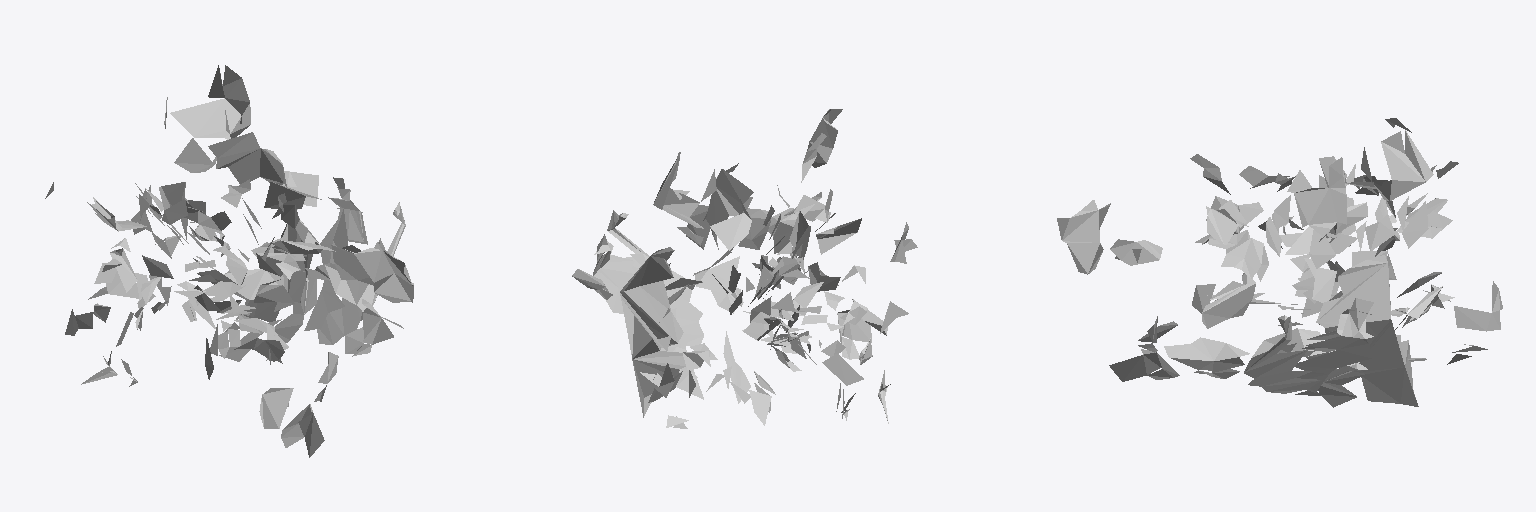
The model's file is spacecraftExplosion_000005.obj.
The picture shows the model from 3 angles: view 1: azimuth 30°, elevation 25°; view 2: azimuth 150°, elevation 25°; view 3: azimuth 270°, elevation 25°; orthographic projection.
Parts seen in each view (by area): view 1: Cube; view 2: Cube; view 3: Cube.
Boxes of the visible parts, box(x1,y1,x2,y2) form: Cube: box(45, 65, 413, 457); Cube: box(572, 109, 917, 428); Cube: box(1057, 118, 1502, 407).
Size of the model in its own units: 9.28 by 8.01 by 11.59.